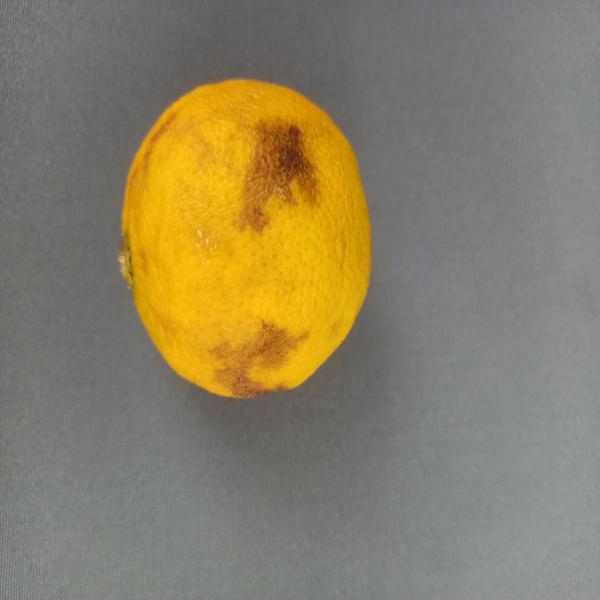Scab: (101, 62, 396, 415)
